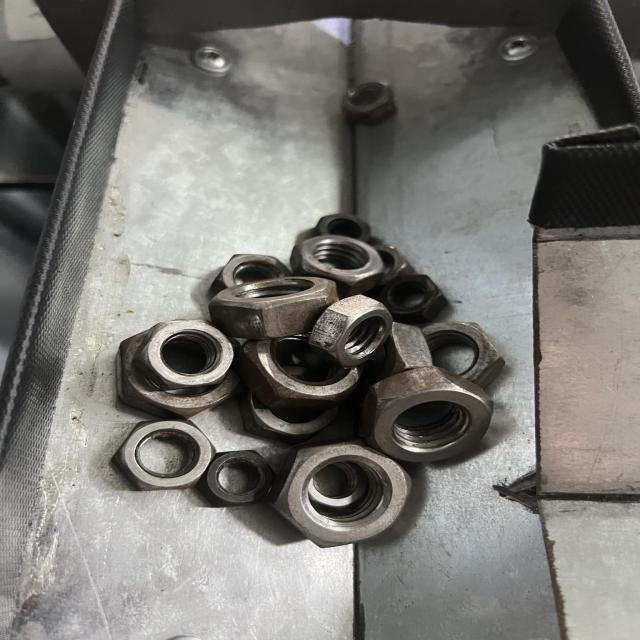nut: (275, 441, 414, 550), (113, 417, 214, 494), (140, 319, 232, 389), (310, 296, 390, 366)
